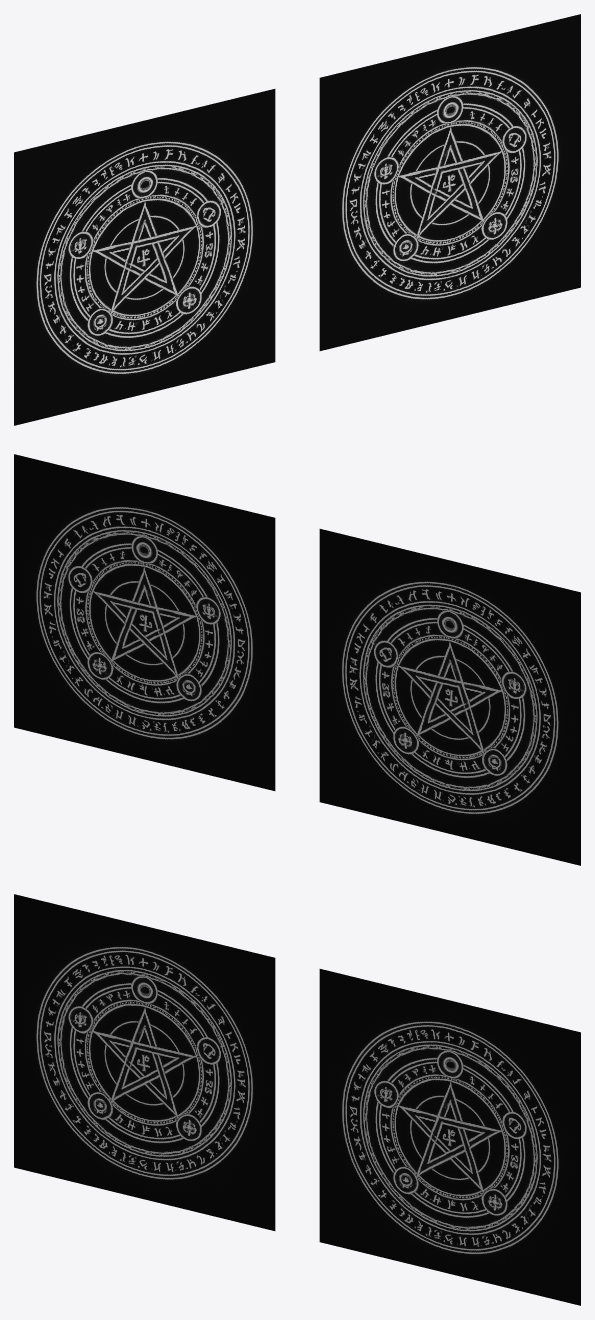
Rendered from Magic Circle.fbx.
3 renders of one model, top to bottom at view 1: azimuth 30°, elevation 25°; view 2: azimuth 150°, elevation 25°; view 3: azimuth 330°, elevation 25°, orthographic.
Visible parts, largest first — view 1: Magic_Circle, Magic_Circle_Broken_02, Magic_Circle_Broken_00, Magic_Circle_Broken_04, Magic_Circle_Broken_03, Magic_Circle_Broken_01; view 2: Magic_Circle, Magic_Circle_Broken_02, Magic_Circle_Broken_00, Magic_Circle_Broken_04, Magic_Circle_Broken_03, Magic_Circle_Broken_01; view 3: Magic_Circle, Magic_Circle_Broken_02, Magic_Circle_Broken_00, Magic_Circle_Broken_04, Magic_Circle_Broken_03, Magic_Circle_Broken_01.
Boxes of the visible parts, x1=… form: Magic_Circle: x1=14, y1=89, x2=275, y2=425; Magic_Circle_Broken_02: x1=319, y1=44, x2=580, y2=315; Magic_Circle_Broken_00: x1=474, y1=61, x2=580, y2=301; Magic_Circle_Broken_04: x1=319, y1=59, x2=438, y2=242; Magic_Circle_Broken_03: x1=319, y1=199, x2=473, y2=350; Magic_Circle_Broken_01: x1=441, y1=14, x2=580, y2=123; Magic_Circle: x1=319, y1=529, x2=580, y2=865; Magic_Circle_Broken_02: x1=14, y1=484, x2=275, y2=755; Magic_Circle_Broken_00: x1=14, y1=501, x2=120, y2=741; Magic_Circle_Broken_04: x1=156, y1=499, x2=275, y2=682; Magic_Circle_Broken_03: x1=121, y1=639, x2=275, y2=790; Magic_Circle_Broken_01: x1=14, y1=454, x2=153, y2=563; Magic_Circle: x1=14, y1=894, x2=275, y2=1230; Magic_Circle_Broken_02: x1=319, y1=988, x2=580, y2=1290; Magic_Circle_Broken_00: x1=474, y1=1079, x2=580, y2=1305; Magic_Circle_Broken_04: x1=319, y1=969, x2=438, y2=1133; Magic_Circle_Broken_03: x1=319, y1=1143, x2=473, y2=1277; Magic_Circle_Broken_01: x1=441, y1=998, x2=580, y2=1083.
Size of the model in its own units: 325 by 150 by 2.67e-05.
Materials: 1 (1 with a texture image).
